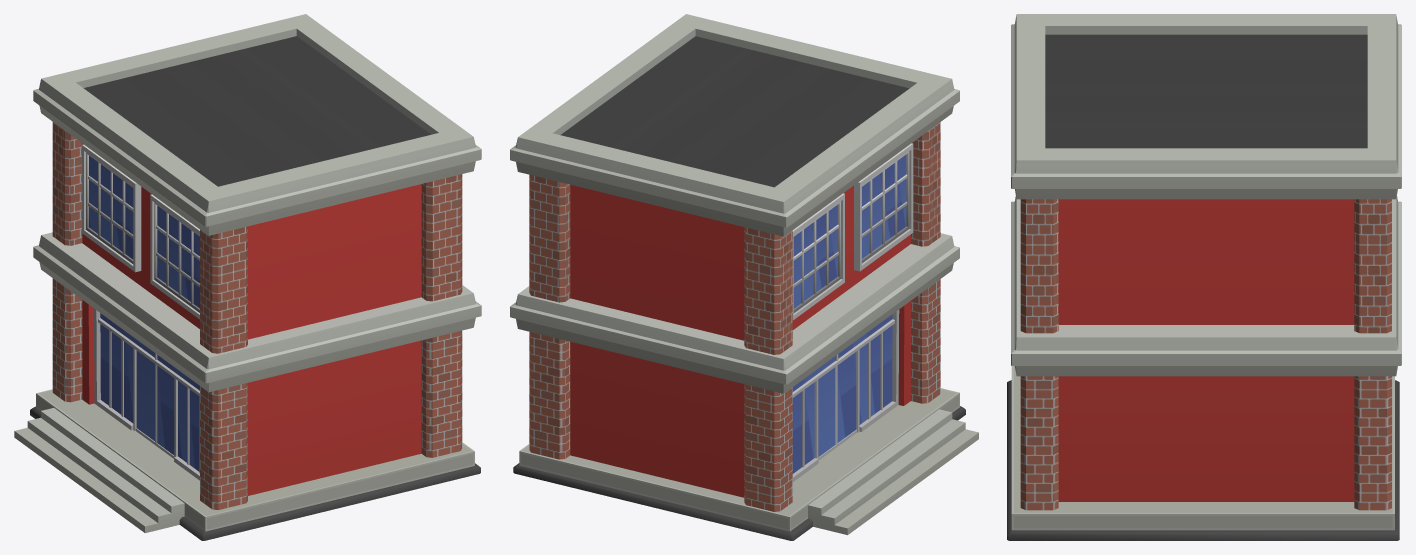
The model's file is Building_9_2_B.glb.
3 renders of one model, left to right at view 1: azimuth 30°, elevation 25°; view 2: azimuth 150°, elevation 25°; view 3: azimuth 270°, elevation 25°, orthographic. The views are drawn at different scales.
Parts seen in each view (by area): view 1: Building_9_2_B; view 2: Building_9_2_B; view 3: Building_9_2_B.
Boxes of the visible parts, bbox=[...] form: Building_9_2_B: bbox=[14, 14, 481, 540]; Building_9_2_B: bbox=[510, 14, 978, 540]; Building_9_2_B: bbox=[1007, 14, 1401, 540].
Size of the model in its own units: 9.47 by 9.58 by 9.06.
Materials: 4 (4 with a texture image).
